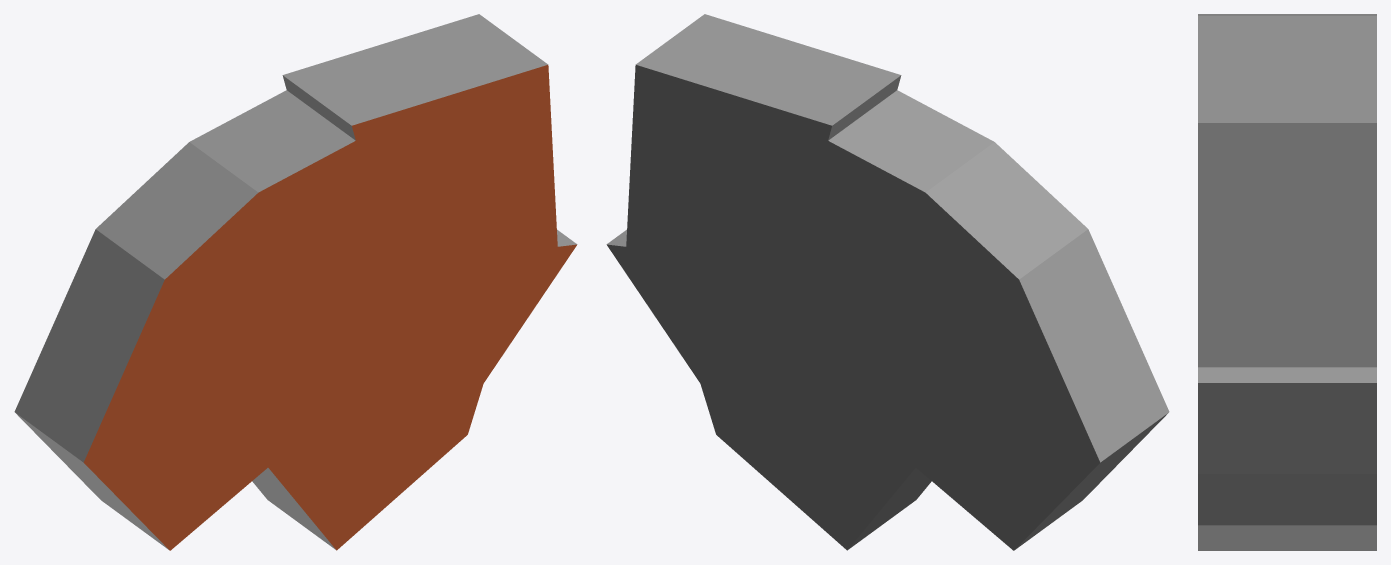
Rendered from construction_2345_assumed_A_Casa_h6m.obj.
3 renders of one model, left to right at view 1: azimuth 30°, elevation 25°; view 2: azimuth 150°, elevation 25°; view 3: azimuth 270°, elevation 25°, orthographic. The views are drawn at different scales.
Parts seen in each view (by area): view 1: construction_2345_assumed_A_Casa; view 2: construction_2345_assumed_A_Casa; view 3: construction_2345_assumed_A_Casa.
Boxes of the visible parts, x1,y1,x2,y2 form: construction_2345_assumed_A_Casa: (14,14,577,550); construction_2345_assumed_A_Casa: (606,14,1169,550); construction_2345_assumed_A_Casa: (1198,14,1376,550).
Size of the model in its own units: 24.73 by 20.78 by 6.
